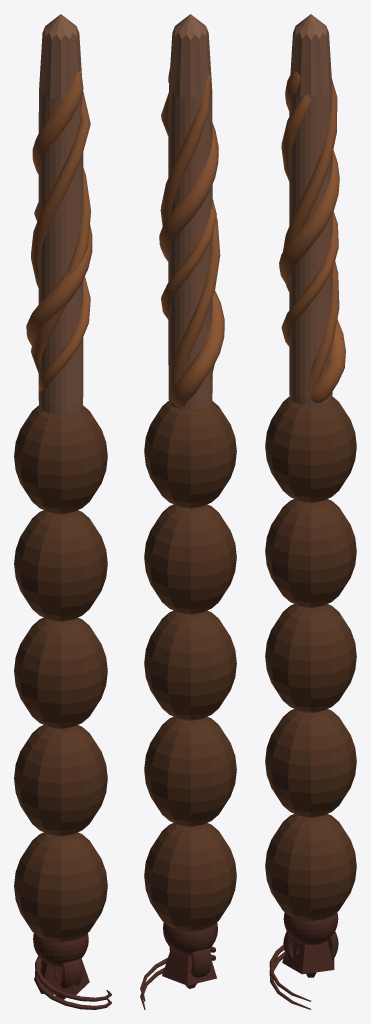
Rendered from Wand 279.glb.
3 views of the same model, side by side, from view 1: azimuth 30°, elevation 25°; view 2: azimuth 210°, elevation 25°; view 3: azimuth 270°, elevation 25° (orthographic). The views are drawn at different scales.
Parts seen in each view (by area): view 1: GeneratedWand, Pommel_4, Pommel_9, Pommel_2, Pommel_10; view 2: GeneratedWand, Pommel_4, Pommel_9, Pommel_2; view 3: GeneratedWand, Pommel_9, Pommel_4, Pommel_2, Pommel_10.
Boxes of the visible parts, x1,y1,x2,y2 form: GeneratedWand: [14, 14, 111, 1001]; Pommel_4: [33, 933, 88, 966]; Pommel_9: [34, 958, 89, 994]; Pommel_2: [60, 959, 81, 988]; Pommel_10: [35, 962, 111, 1009]; GeneratedWand: [140, 14, 236, 1001]; Pommel_4: [163, 922, 217, 954]; Pommel_9: [162, 948, 216, 985]; Pommel_2: [169, 947, 211, 977]; GeneratedWand: [265, 14, 356, 1001]; Pommel_9: [282, 940, 334, 974]; Pommel_4: [283, 912, 338, 944]; Pommel_2: [283, 931, 338, 960]; Pommel_10: [269, 951, 310, 1009].
Bounding box in the file's own units: 0.0481 × 0.5262 × 0.0449.
